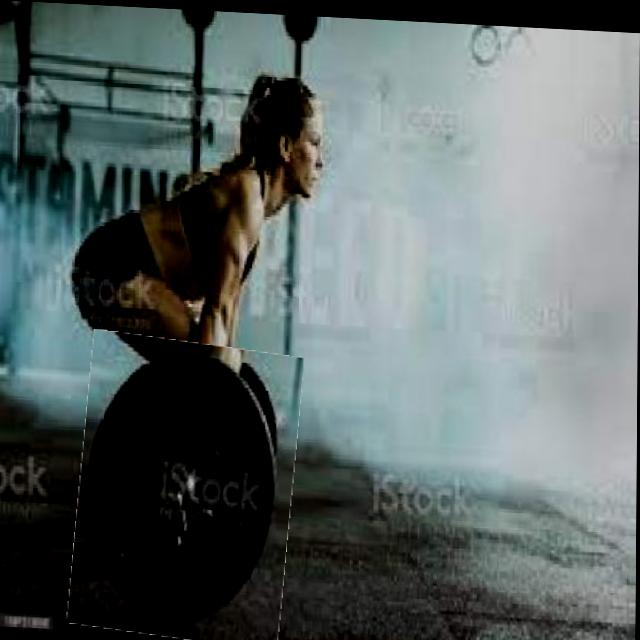barbell: (74, 333, 299, 640)
